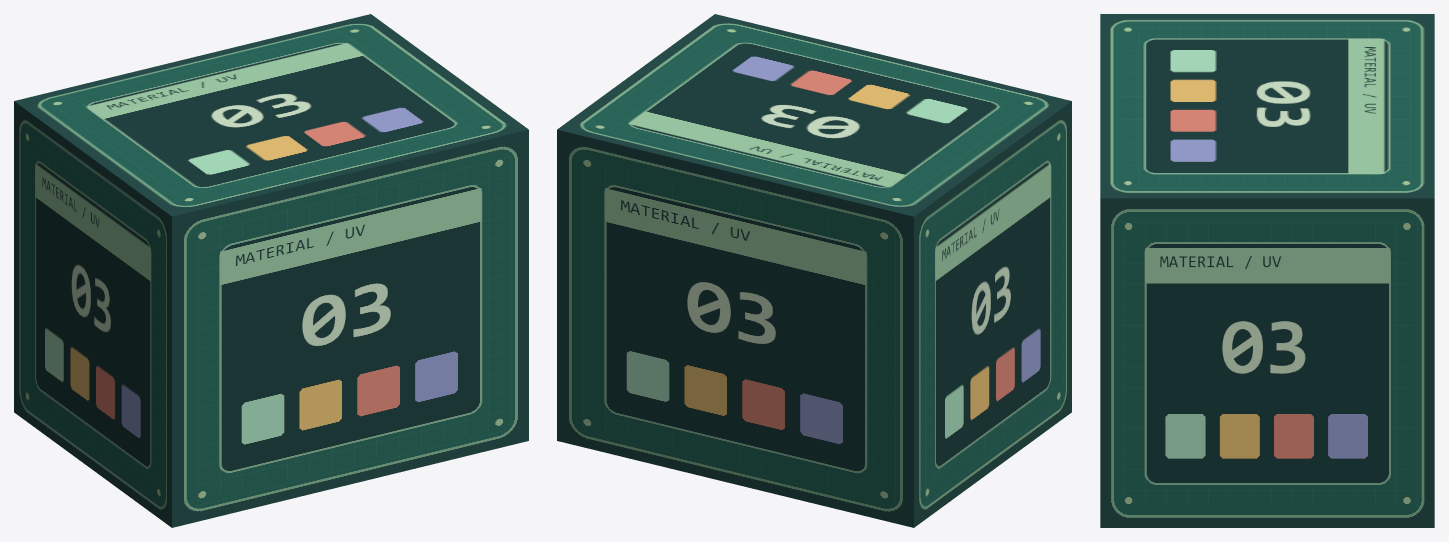
The model's file is sample.glb.
3 renders of one model, left to right at view 1: azimuth 30°, elevation 25°; view 2: azimuth 150°, elevation 25°; view 3: azimuth 270°, elevation 25°, orthographic. The views are drawn at different scales.
Size of the model in its own units: 1.2 by 1 by 0.92.
Materials: 1 (1 with a texture image).
